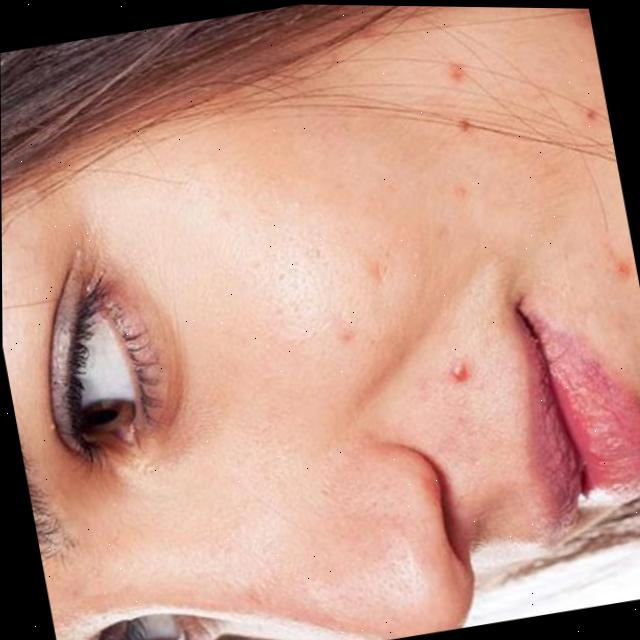Acne: (324, 49, 640, 417)
